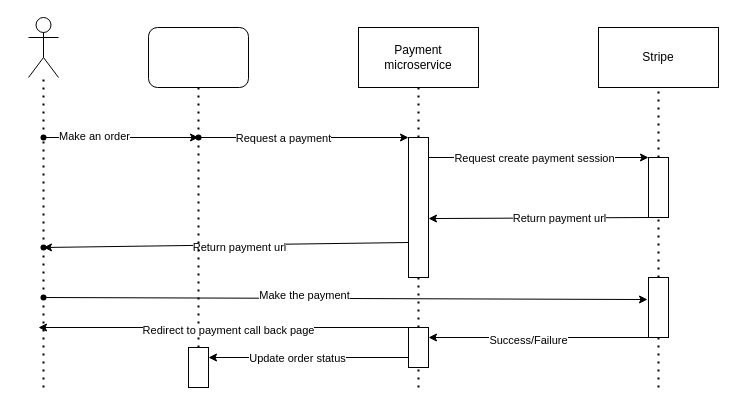
This 736x407 diagram has some shape labels left out. The shapes that lost their labels are listed below. From the top down, each one's centre as x and y in pixels, then its label:
point 43,47: Customer
point 198,57: Order microservice
